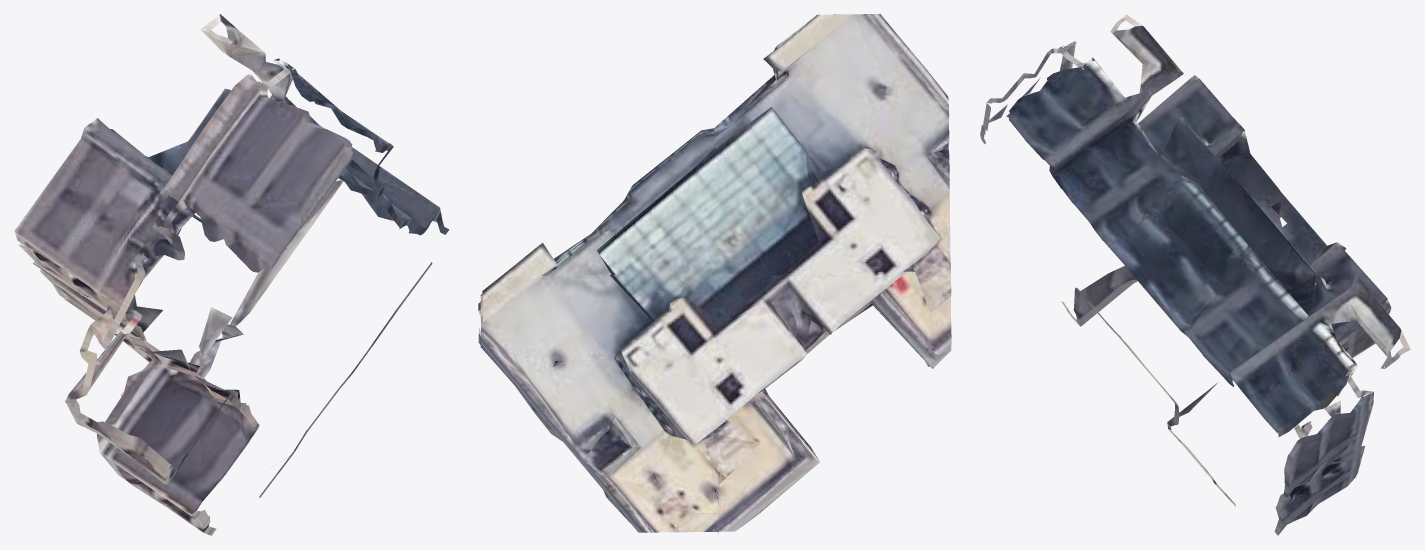
3 renders of one model, left to right at view 1: azimuth 30°, elevation 25°; view 2: azimuth 150°, elevation 25°; view 3: azimuth 270°, elevation 25°, orthographic. The views are drawn at different scales.
Bounding box in the file's own units: 35.47 × 40.03 × 33.79.
Materials: 2 (2 with a texture image).
